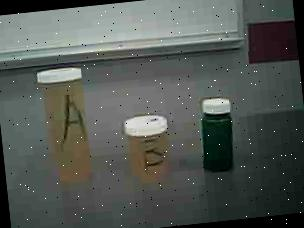Bottle A: (34, 61, 100, 192)
Bottle B: (122, 110, 177, 186)
Bottle C: (196, 91, 242, 183)
